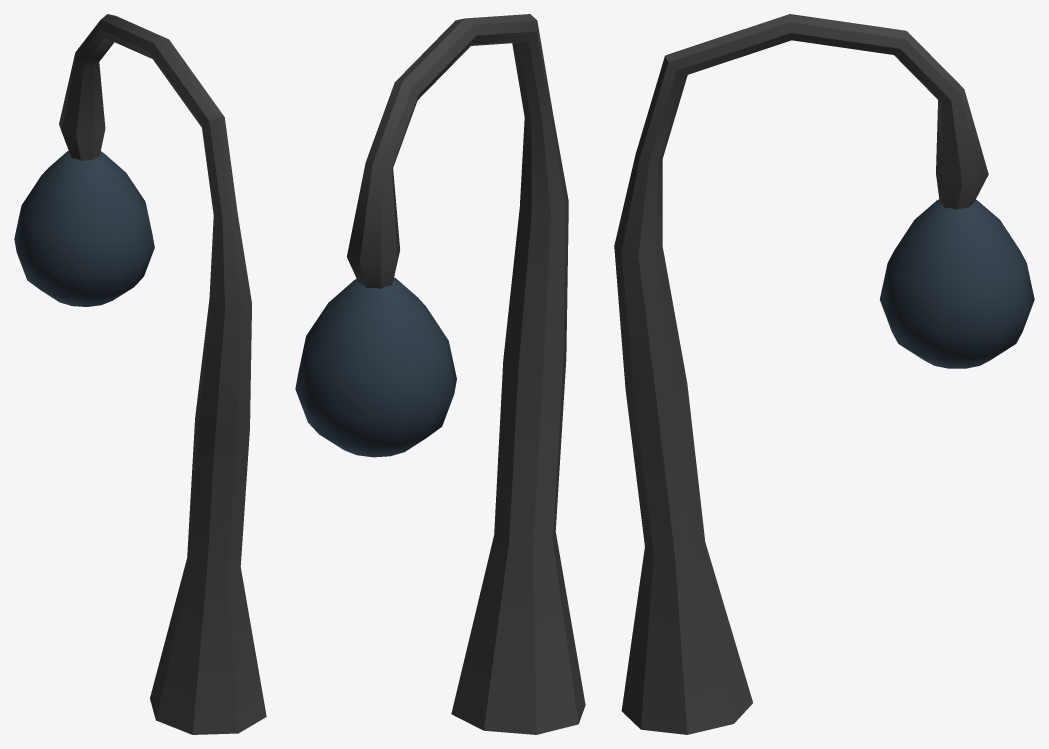
The model's file is CH_CE_StreetLight_Cute.FBX.
3 views of the same model, side by side, from view 1: azimuth 30°, elevation 25°; view 2: azimuth 150°, elevation 25°; view 3: azimuth 270°, elevation 25° (orthographic). The views are drawn at different scales.
Visible parts, largest first — view 1: CH_CE_StreetLight_Cute; view 2: CH_CE_StreetLight_Cute; view 3: CH_CE_StreetLight_Cute.
Boxes of the visible parts, x1=… form: CH_CE_StreetLight_Cute: x1=14, y1=14, x2=266, y2=734; CH_CE_StreetLight_Cute: x1=295, y1=14, x2=585, y2=734; CH_CE_StreetLight_Cute: x1=614, y1=14, x2=1034, y2=734.
Size of the model in its own units: 73.8 by 375 by 205.
